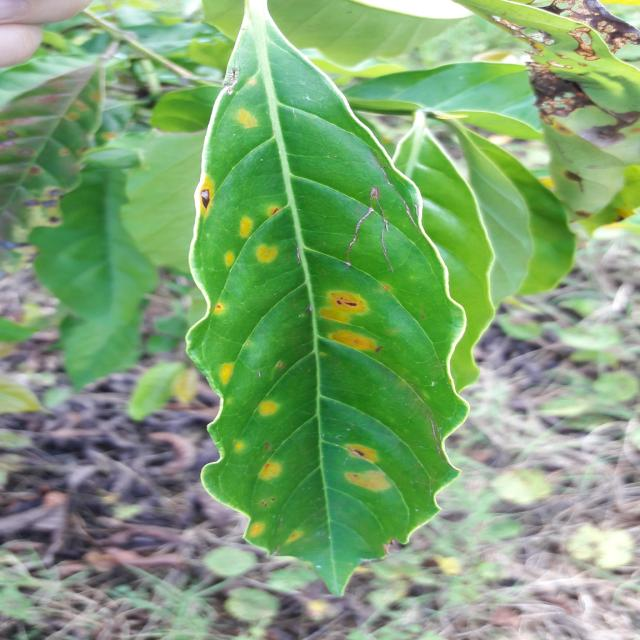Enfermedad-Roya: (183, 0, 493, 597)
